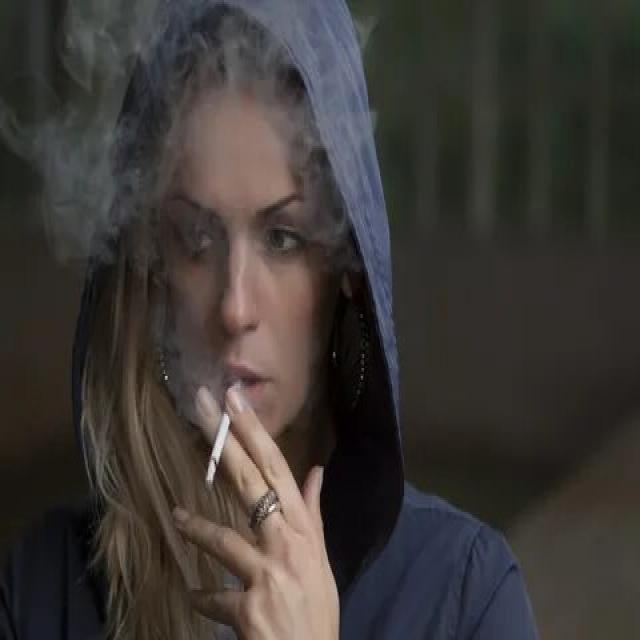smoke: (202, 396, 238, 496)
